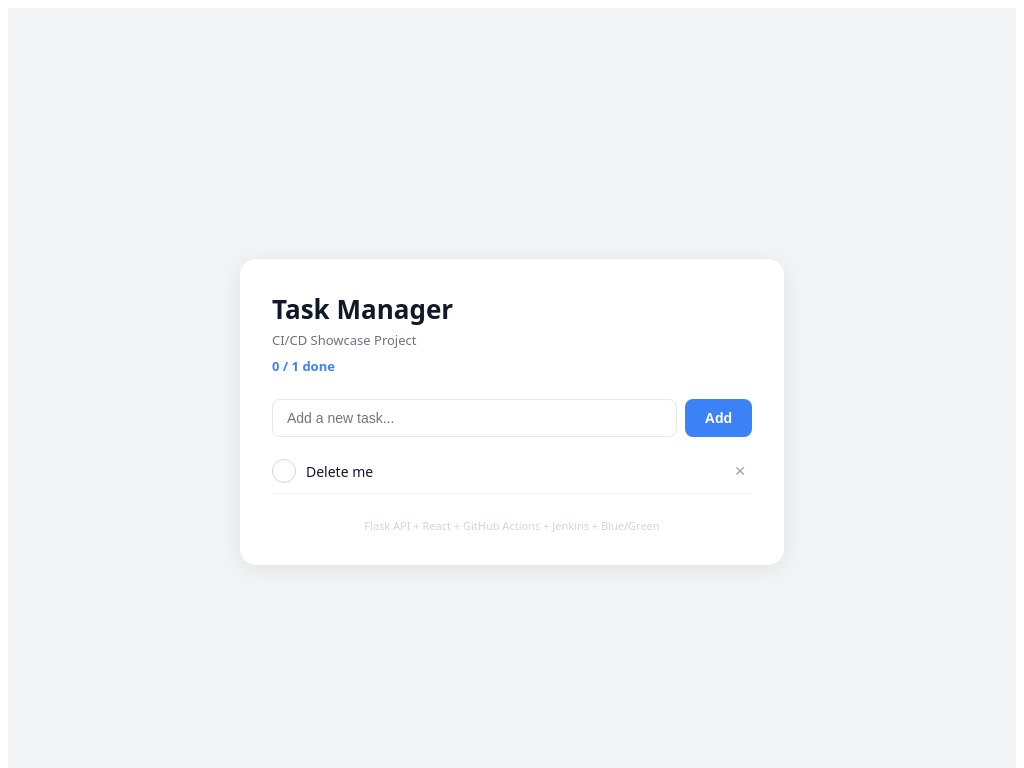
Test case: Deleting tasks › removes a task when delete button is clicked
Expected: the text "Delete me" is shown, [306,462,373,480]
Click the button titled "Delete task" at (740, 471), box [728,461,752,481]
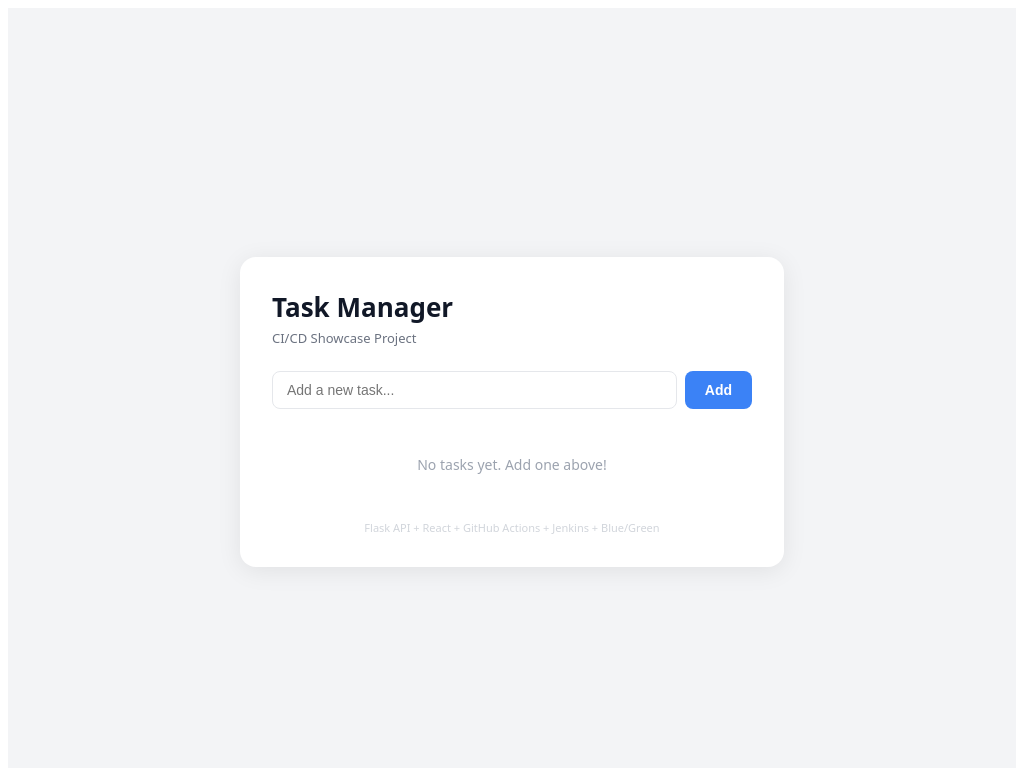
Expected: the text "Delete me" is gone
